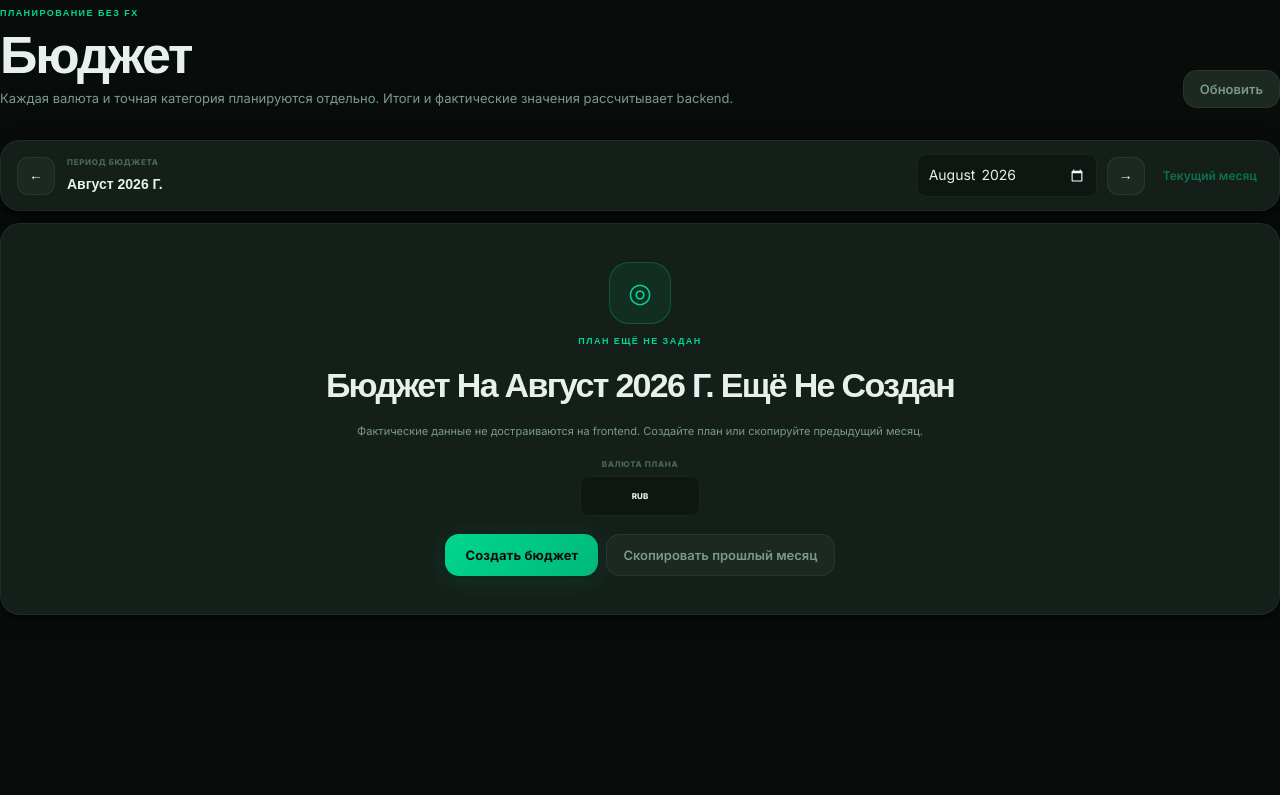
Test: create retries one network command with the same idempotency key and renders backend response
Click the button "Создать бюджет".
click(522, 555)  # box [446,534,598,576]
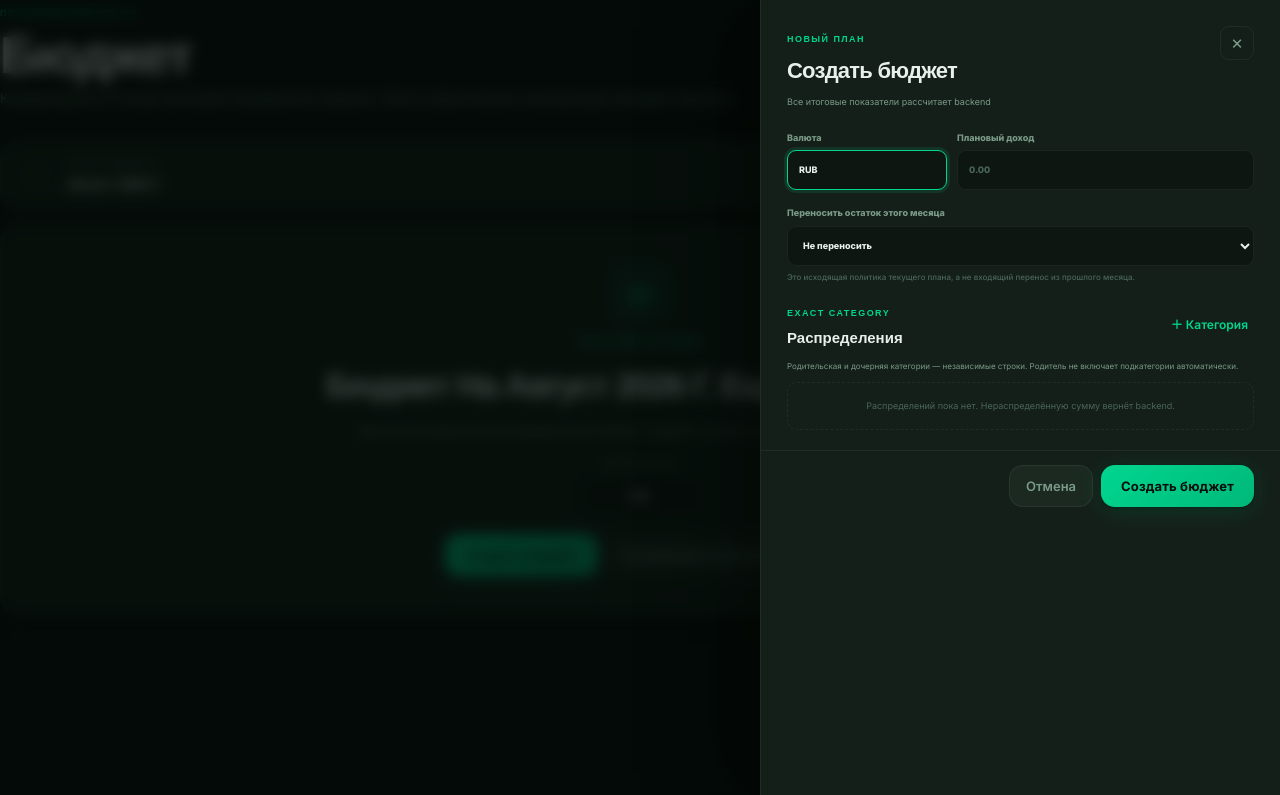
Type "1000" into the field labelled "Плановый доход".
click(1105, 170); type("1000")  # box [957,150,1254,190]
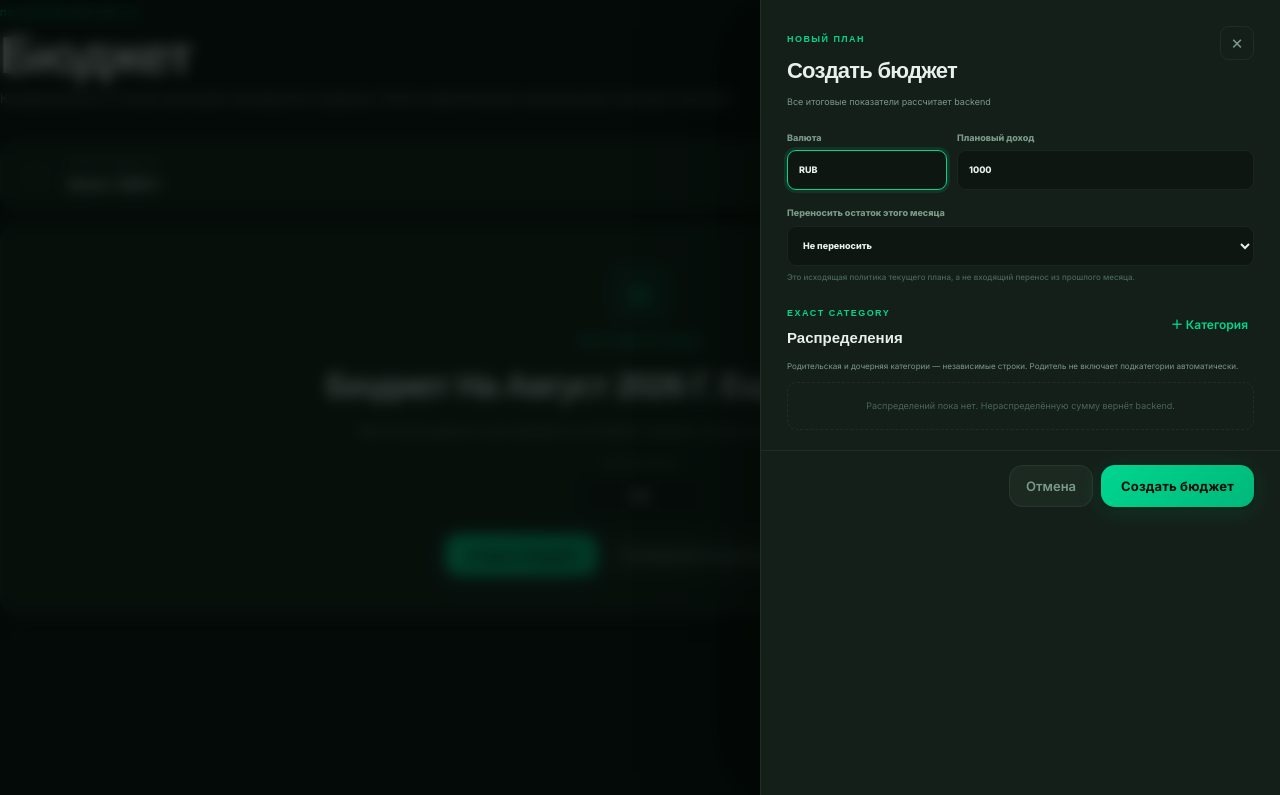
Submit the form, box [787,131,1254,505]
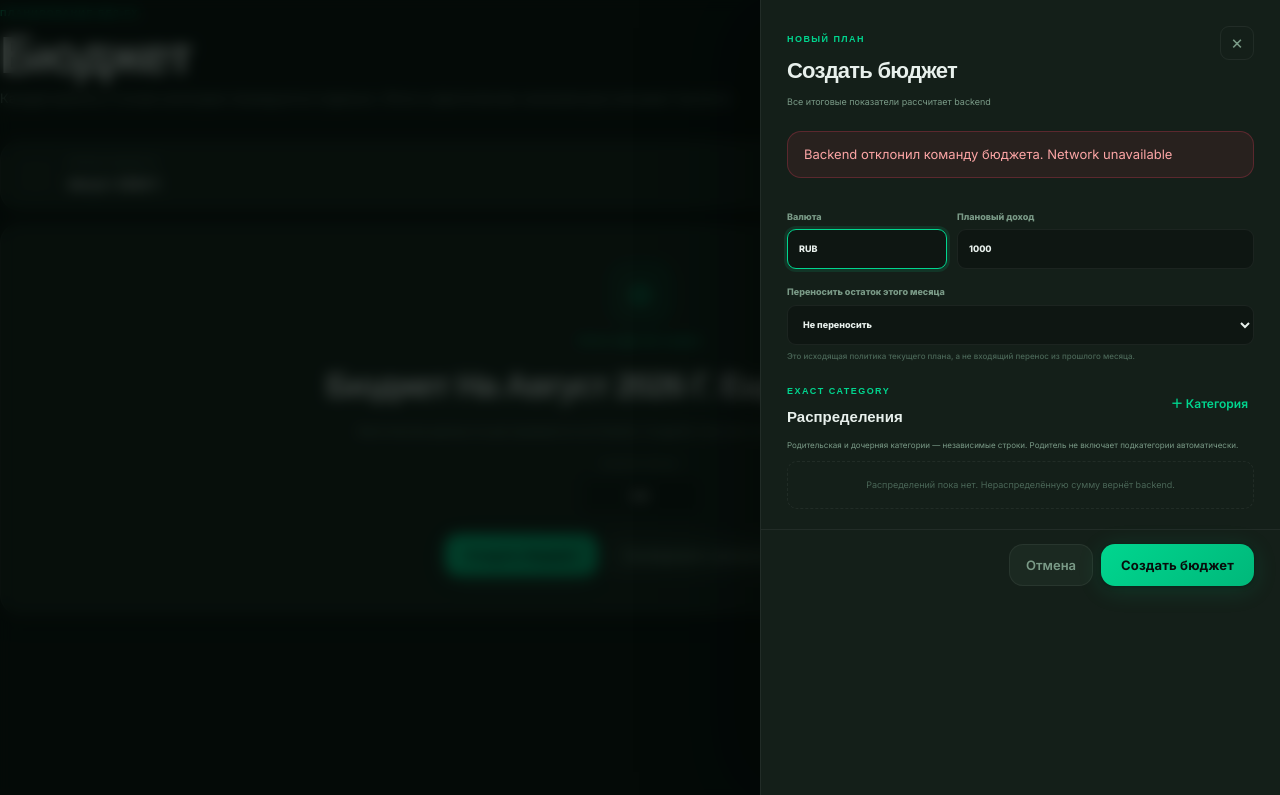
Expected: the text "Network unavailable" is shown, [804,146,1172,162]
Submit the form, box [787,131,1254,584]
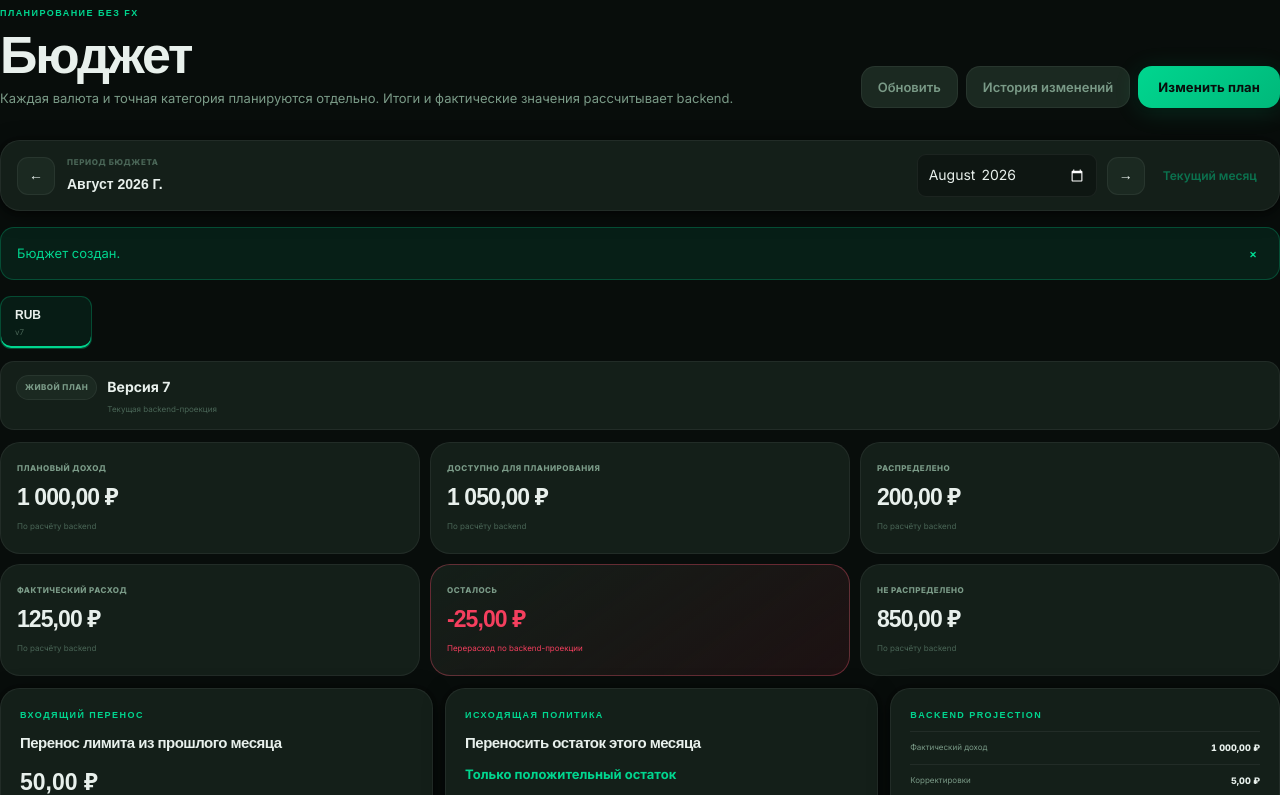
Expected: the text "v7" is shown, [15,327,24,337]
